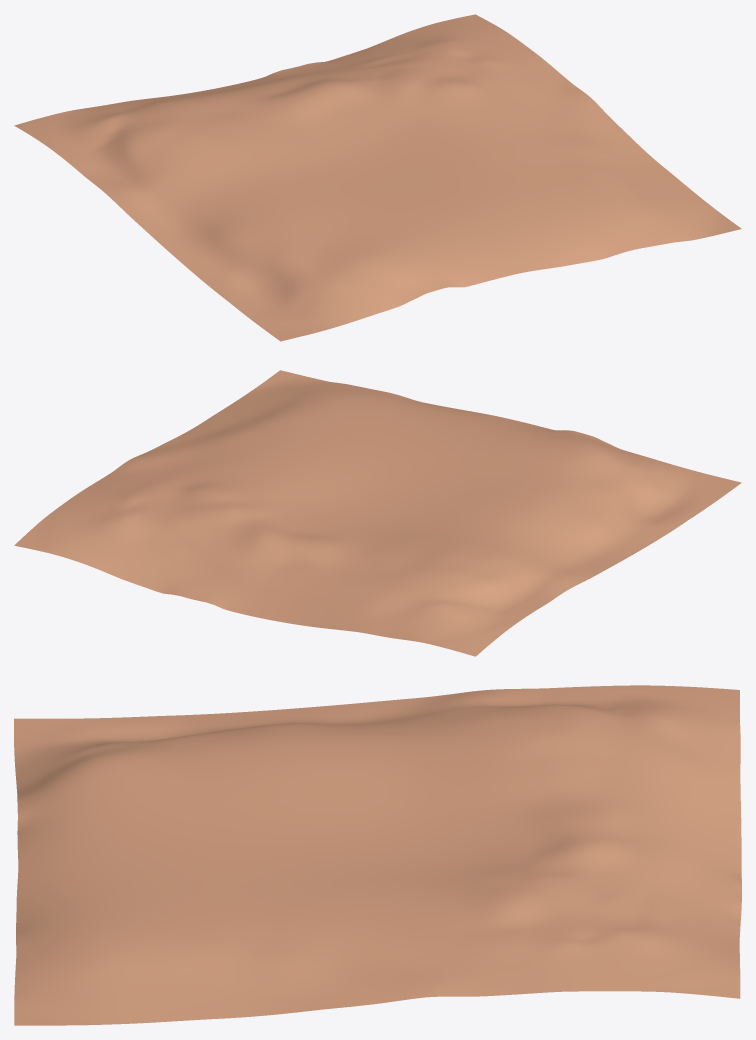
The model's file is des.fbx.
3 views of the same model, one above another, from view 1: azimuth 30°, elevation 25°; view 2: azimuth 150°, elevation 25°; view 3: azimuth 270°, elevation 25° (orthographic). The views are drawn at different scales.
Parts seen in each view (by area): view 1: 平面; view 2: 平面; view 3: 平面.
Boxes of the visible parts, x1=… form: 平面: x1=14, y1=14, x2=741, y2=341; 平面: x1=14, y1=370, x2=741, y2=656; 平面: x1=14, y1=685, x2=741, y2=1025.
Size of the model in its own units: 454 by 37.29 by 454.
